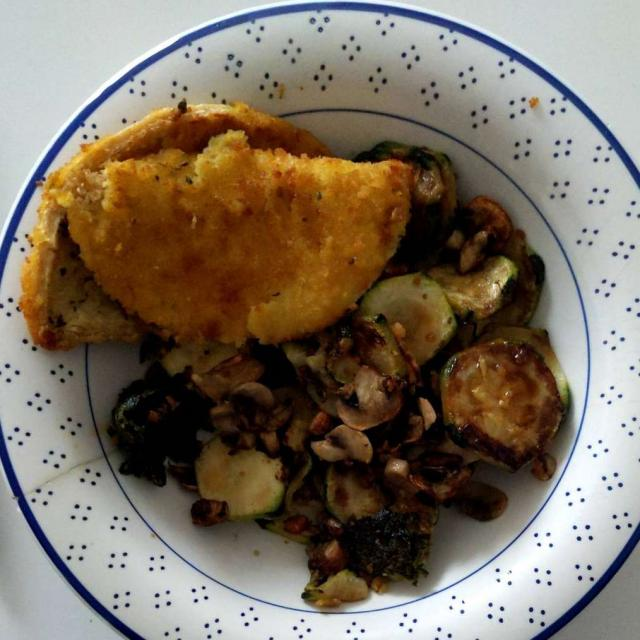zucchini: (97, 162, 571, 603)
